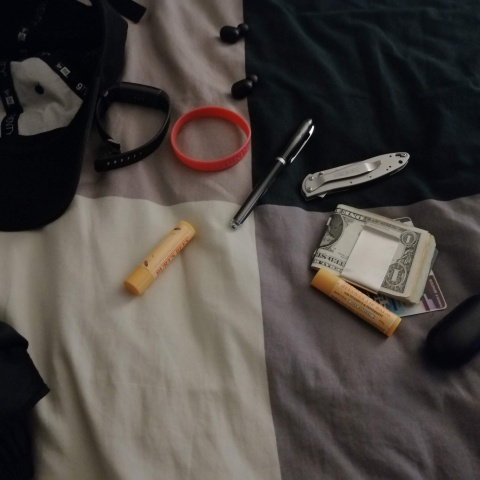chapstick: (309, 266, 403, 339), (121, 220, 196, 299)
